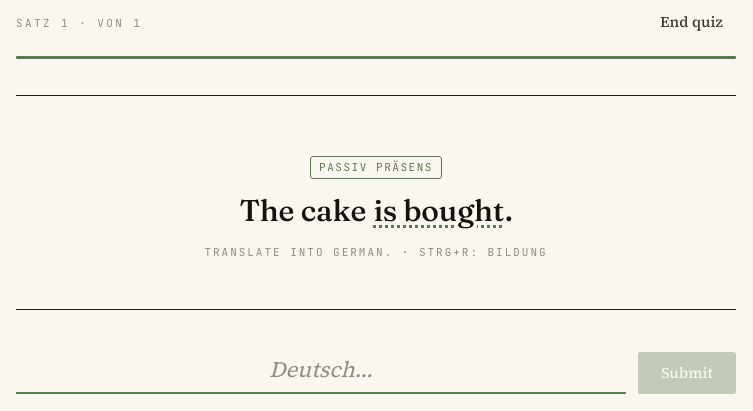
Test: VerbSentenceRunner tense recipe › flips back on a second click
This screenshot has width=753, height=411.
Click the button with class "tense-badge" at x=376, y=167, box [310, 156, 442, 178]
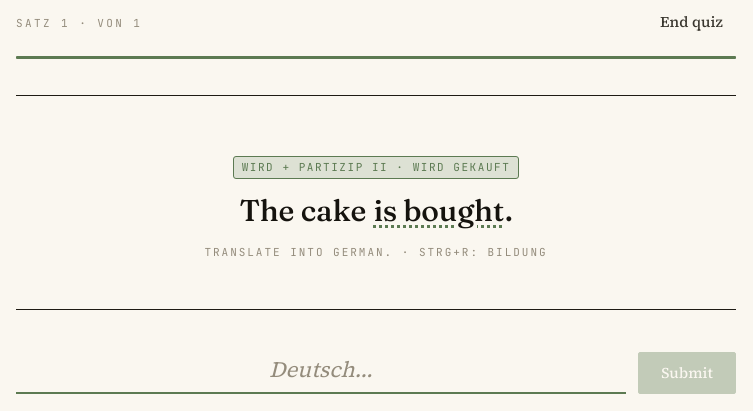
Click the button with class "tense-badge" at x=376, y=167, box [233, 156, 519, 178]
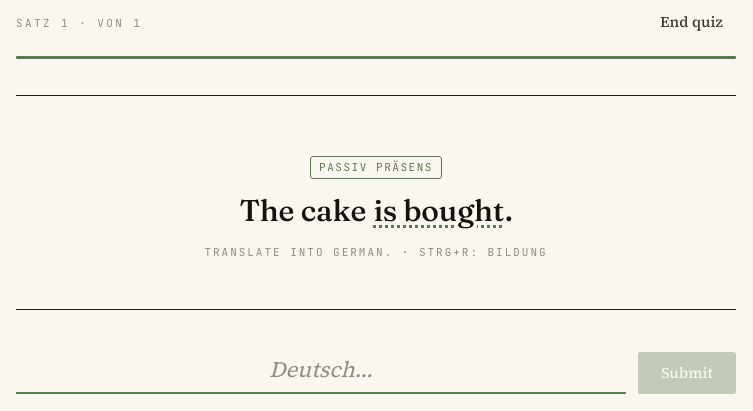
Expected: the button with class "tense-badge" reads "Passiv Präsens", [310, 156, 442, 178]
